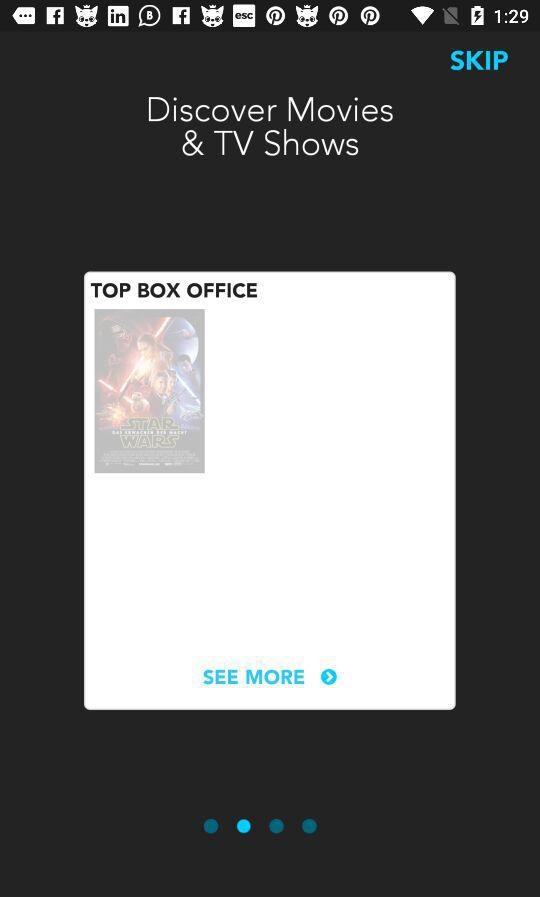Image: (84, 272, 456, 711)
PageIndicator: (202, 817, 319, 836)
Text: (149, 97, 394, 158), (450, 51, 509, 72)
UpperTaskBar: (1, 1, 540, 33)
